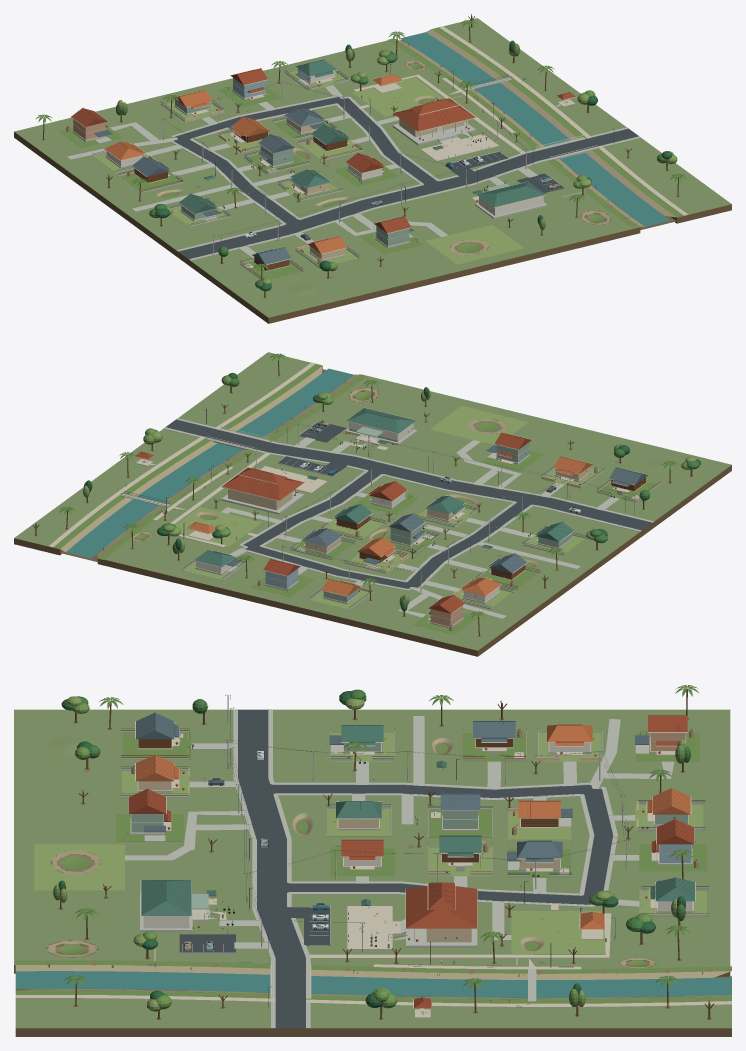
Rendered from thai_community_visible_low_areas.glb.
3 views of the same model, one above another, from view 1: azimuth 30°, elevation 25°; view 2: azimuth 150°, elevation 25°; view 3: azimuth 270°, elevation 25° (orthographic). The views are drawn at different scales.
Parts seen in each view (by area): view 1: TERRAIN_West, TERRAIN_East, WATER_CANAL, ROAD_MAIN_001, OPEN_Future_Lot, CANAL_BANK_East, CANAL_GRASS_VERGE_1, OPEN_Community_Green, ROAD_MAIN_001_Shoulders, CANAL_GRASS_VERGE_-1, CURB_Road_Network, CANAL_EAST_FOOTPATH (+16 smaller); view 2: TERRAIN_West, TERRAIN_East, WATER_CANAL, ROAD_MAIN_001, OPEN_Future_Lot, CANAL_BANK_East, CANAL_GRASS_VERGE_1, ROAD_MAIN_001_Shoulders, CANAL_GRASS_VERGE_-1, CURB_Road_Network, OPEN_Community_Green, CANAL_EAST_FOOTPATH (+14 smaller); view 3: TERRAIN_West, TERRAIN_East, WATER_CANAL, ROAD_MAIN_001, CANAL_BANK_West, OPEN_Future_Lot, CANAL_GRASS_VERGE_-1, OPEN_Community_Green, CANAL_GRASS_VERGE_1, CANAL_EAST_FOOTPATH, ROAD_MAIN_001_Shoulders, COMMUNITY_Main_Roof (+59 smaller).
Boxes of the visible parts, bbox=[...] form: TERRAIN_West: bbox=[14, 40, 640, 323]; TERRAIN_East: bbox=[444, 18, 731, 223]; WATER_CANAL: bbox=[400, 32, 670, 226]; ROAD_MAIN_001: bbox=[178, 128, 638, 259]; OPEN_Future_Lot: bbox=[425, 224, 524, 264]; CANAL_BANK_East: bbox=[426, 29, 675, 217]; CANAL_GRASS_VERGE_1: bbox=[431, 27, 683, 217]; OPEN_Community_Green: bbox=[352, 77, 443, 116]; ROAD_MAIN_001_Shoulders: bbox=[177, 127, 641, 260]; CANAL_GRASS_VERGE_-1: bbox=[388, 38, 639, 228]; CURB_Road_Network: bbox=[175, 97, 637, 259]; CANAL_EAST_FOOTPATH: bbox=[438, 26, 688, 215]; TERRAIN_West: bbox=[97, 374, 731, 656]; TERRAIN_East: bbox=[14, 352, 322, 555]; WATER_CANAL: bbox=[66, 368, 354, 558]; ROAD_MAIN_001: bbox=[165, 419, 651, 530]; OPEN_Future_Lot: bbox=[430, 406, 528, 445]; CANAL_BANK_East: bbox=[60, 365, 322, 552]; CANAL_GRASS_VERGE_1: bbox=[53, 364, 322, 549]; ROAD_MAIN_001_Shoulders: bbox=[163, 418, 653, 531]; CANAL_GRASS_VERGE_-1: bbox=[97, 374, 366, 559]; CURB_Road_Network: bbox=[165, 419, 652, 588]; OPEN_Community_Green: bbox=[175, 507, 261, 546]; CANAL_EAST_FOOTPATH: bbox=[48, 362, 315, 547]; TERRAIN_West: bbox=[14, 709, 730, 976]; TERRAIN_East: bbox=[15, 998, 731, 1036]; WATER_CANAL: bbox=[15, 971, 731, 997]; ROAD_MAIN_001: bbox=[238, 709, 305, 1028]; CANAL_BANK_West: bbox=[15, 965, 731, 979]; OPEN_Future_Lot: bbox=[34, 844, 124, 890]; CANAL_GRASS_VERGE_-1: bbox=[15, 960, 731, 973]; OPEN_Community_Green: bbox=[511, 911, 605, 953]; CANAL_GRASS_VERGE_1: bbox=[15, 990, 731, 1003]; CANAL_EAST_FOOTPATH: bbox=[15, 995, 731, 1007]; ROAD_MAIN_001_Shoulders: bbox=[233, 709, 310, 1028]; COMMUNITY_Main_Roof: bbox=[406, 886, 477, 928].
Bounding box in the file's own units: 200 × 13.82 × 190.
